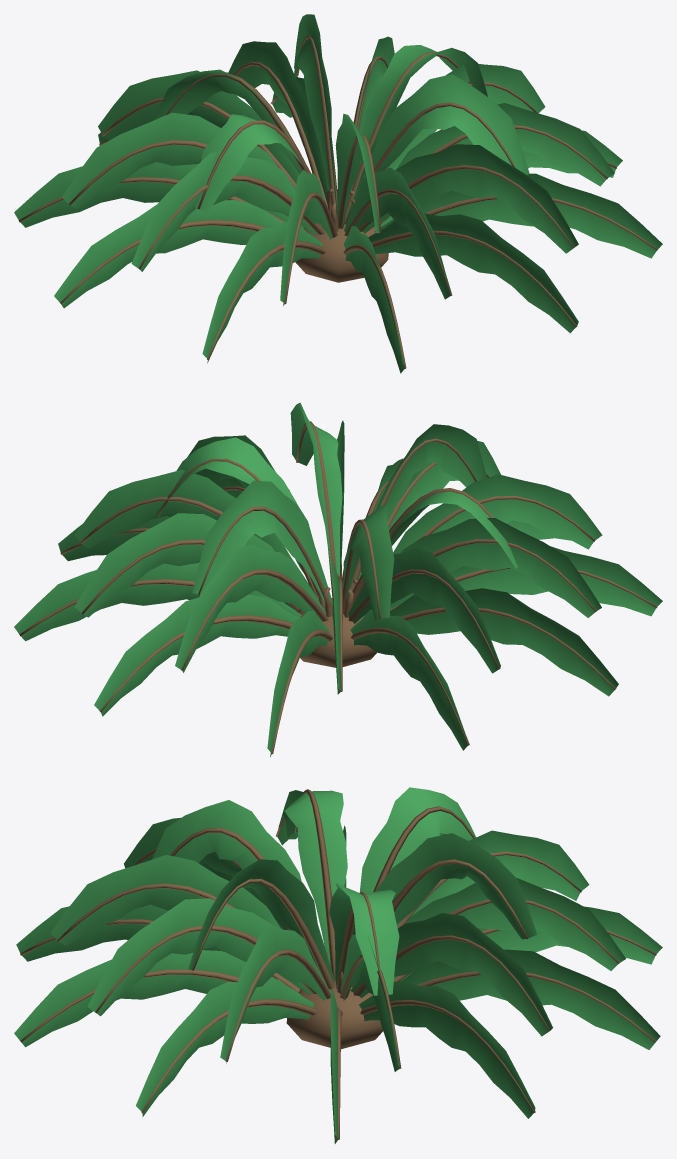
The model's file is understory_sword_fern.glb.
3 views of the same model, one above another, from view 1: azimuth 30°, elevation 25°; view 2: azimuth 150°, elevation 25°; view 3: azimuth 270°, elevation 25° (orthographic). The views are drawn at different scales.
Visible parts, largest first — view 1: Flora_Sword_Fern; view 2: Flora_Sword_Fern; view 3: Flora_Sword_Fern.
Boxes of the visible parts, x1,y1,x2,y2 form: Flora_Sword_Fern: (14, 14, 662, 373); Flora_Sword_Fern: (14, 402, 662, 757); Flora_Sword_Fern: (14, 787, 662, 1143).
Bounding box in the file's own units: 3.26 × 1.17 × 3.11.
